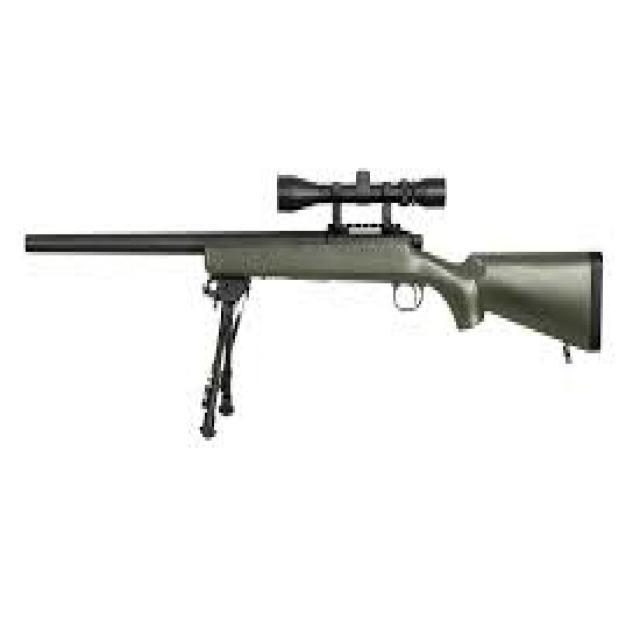rifle: (21, 146, 618, 458)
